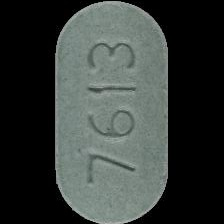0093-7613: (0, 0, 224, 224)
